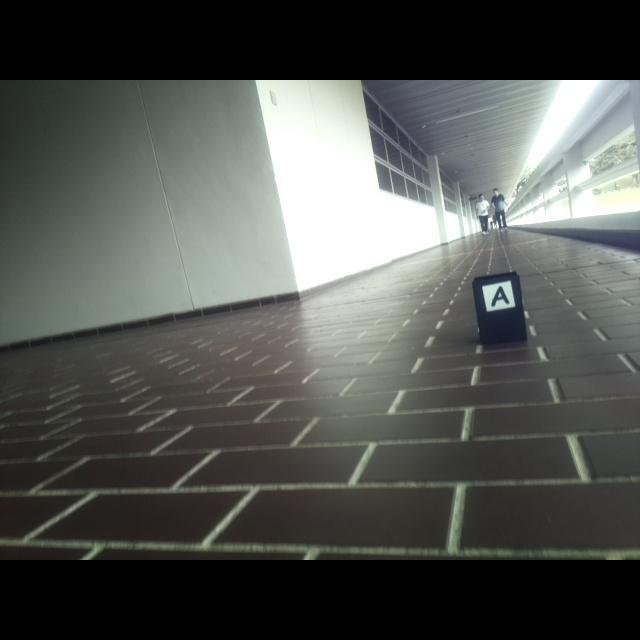A: (491, 286, 511, 308)
